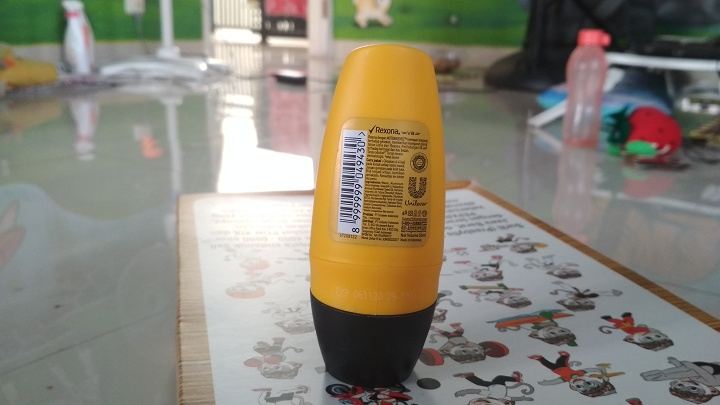rexona: (301, 31, 443, 385)
